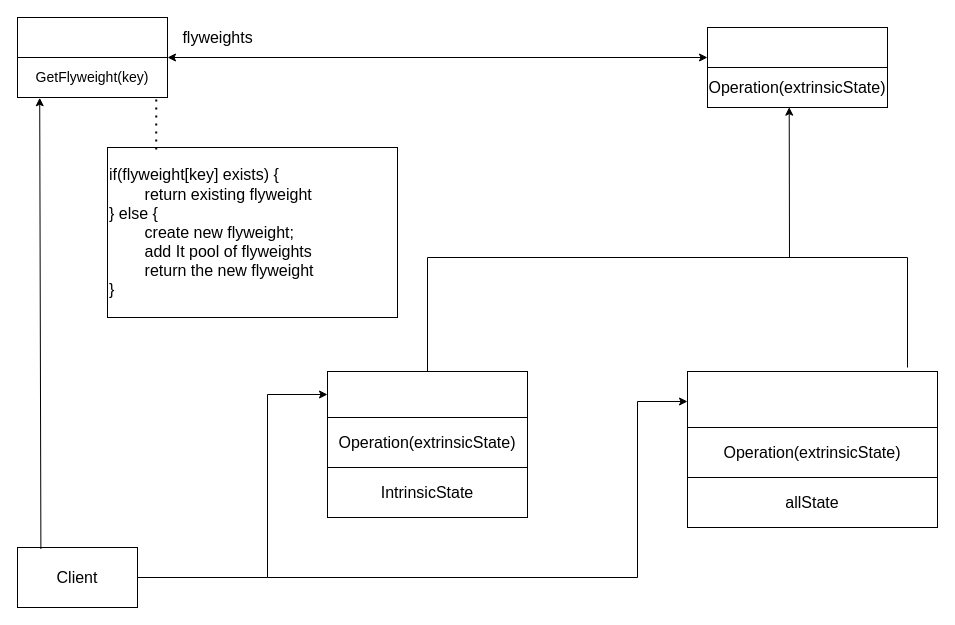
The diagram is 955 pixels wide and 625 high, and some of its shapes have lost their labels. Here are the shapes that lost their labels. From the top down, the centre of each, then its label:
At point 92,37: "FlywelghtFactory".
At point 797,47: "Flyweight".
At point 427,394: "ConcreteFlyweight".
At point 812,401: "UnsharedConcreteFlyweight".
